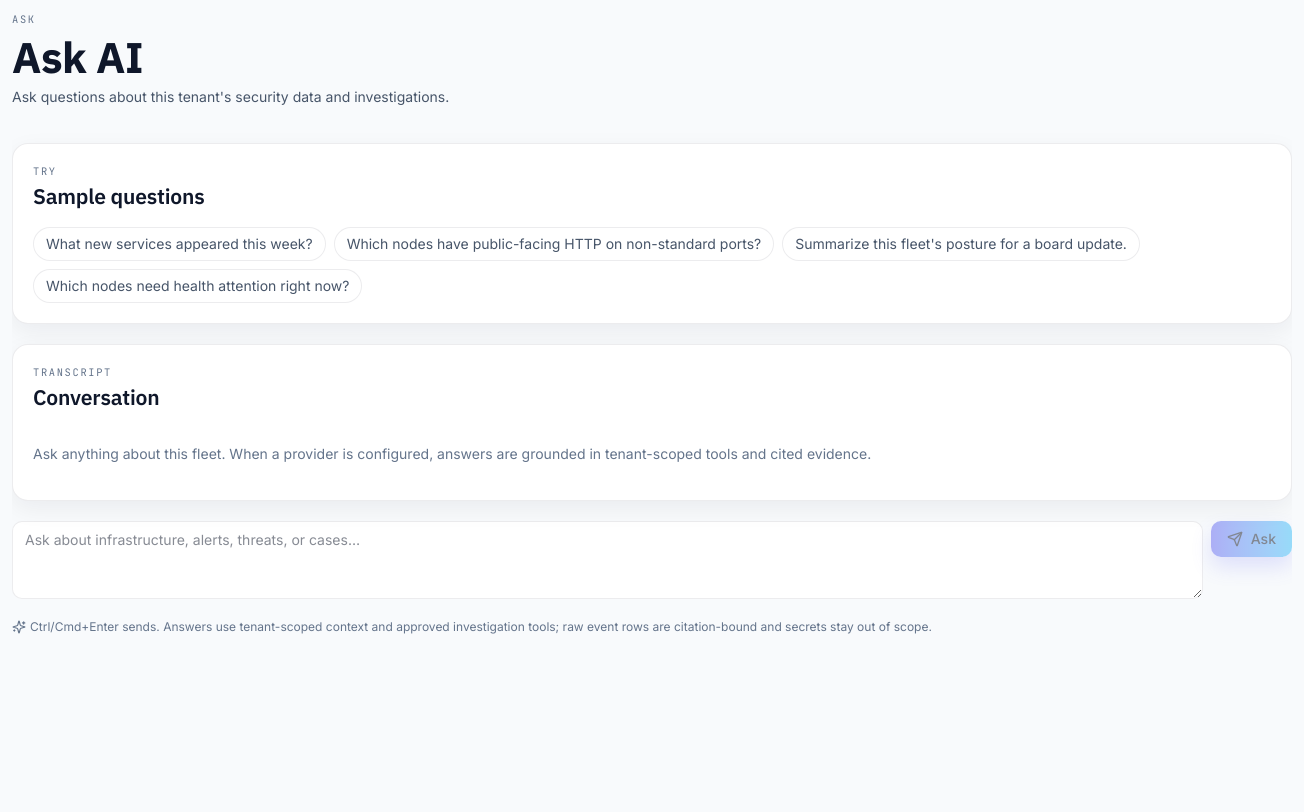
Scenario: Ask › renders answer citations, confidence, and tool trace
Type "show timeline" into the text box with placeholder "Ask about infrastructure, alerts, threats, or cases…". click: (607, 560)
box: [12, 521, 1203, 599]
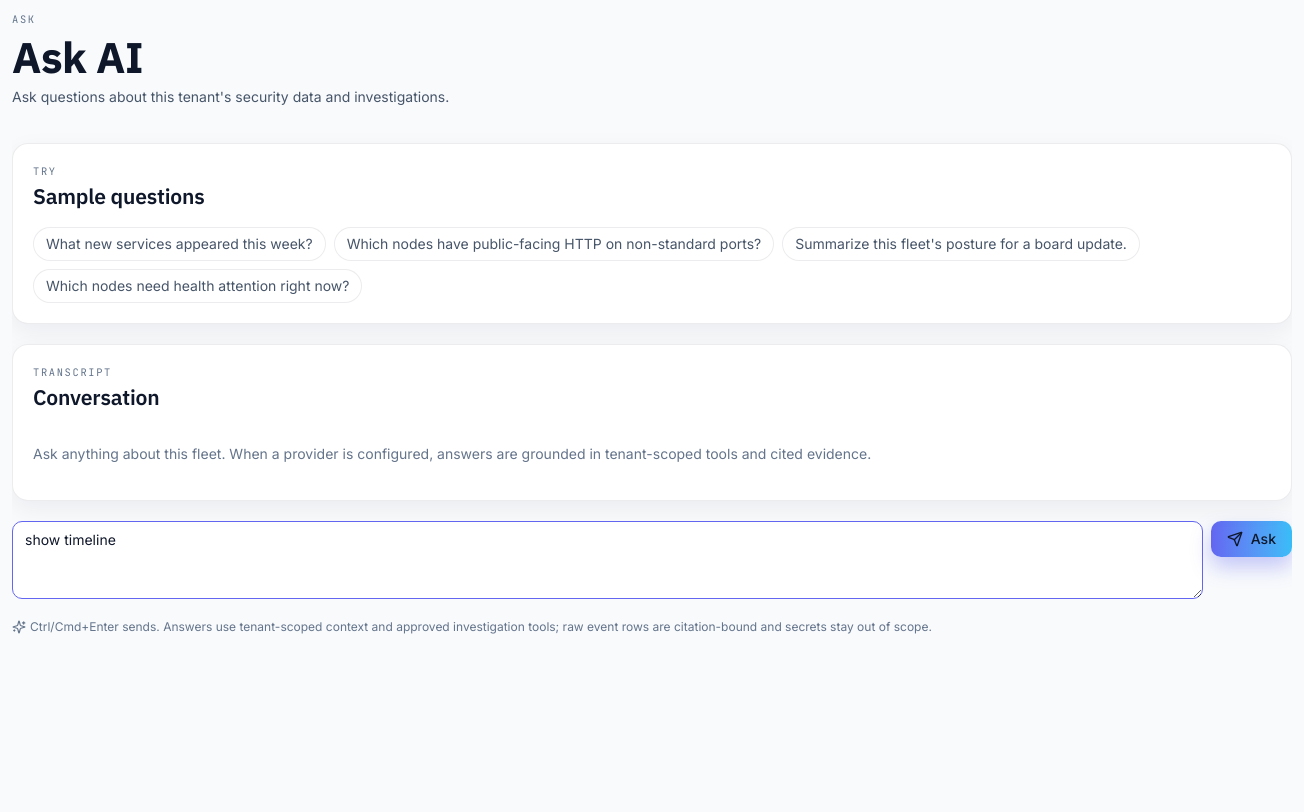
Click the button "Ask". click: (1251, 539)
box: [1211, 521, 1292, 557]
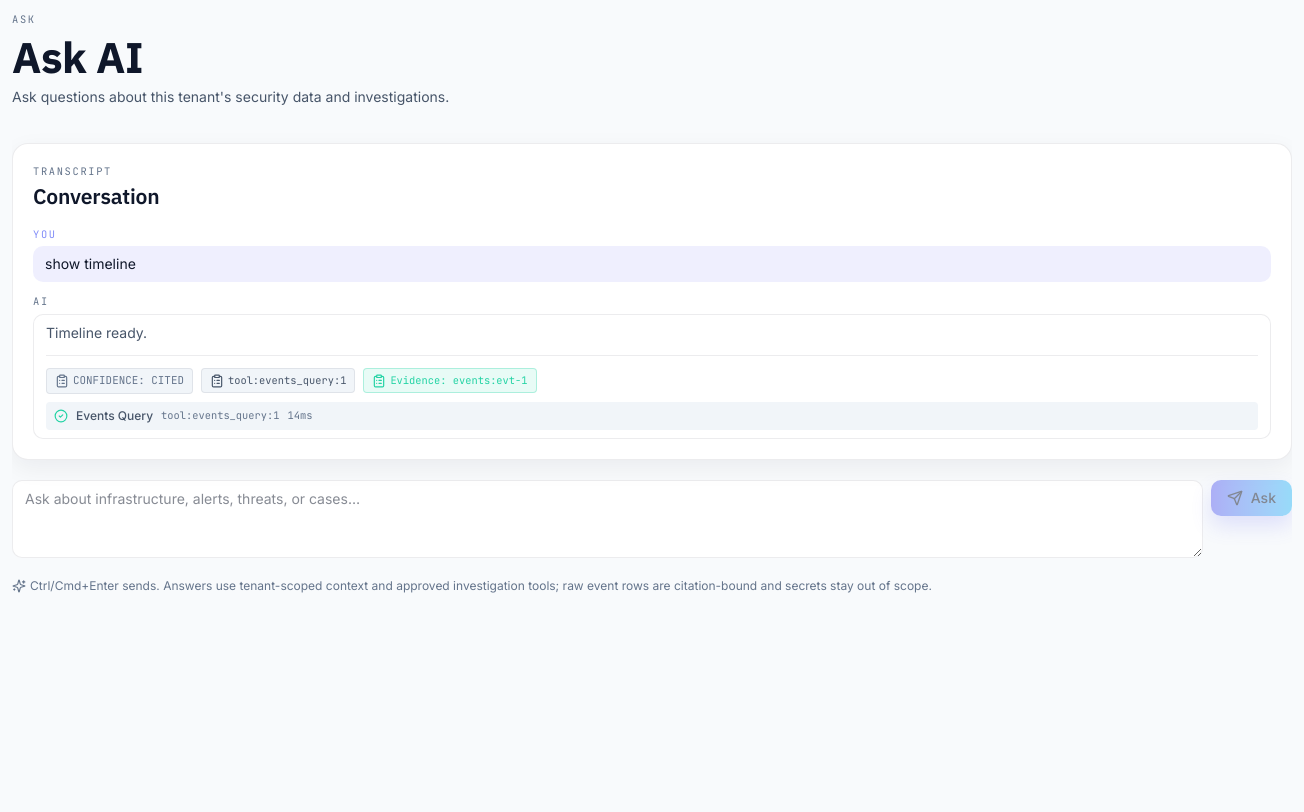
Result: the text "Timeline ready." is shown at [46, 324, 147, 341]
Result: the text "tool:events_query:1" next to "cited" is shown at [228, 373, 346, 387]
Result: the text "Evidence: events:evt-1" is shown at [390, 373, 528, 388]
